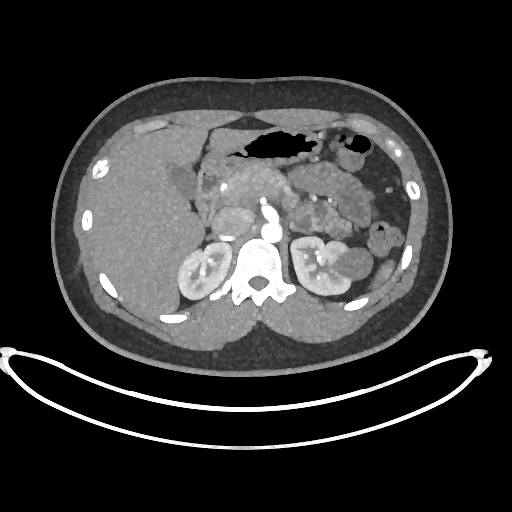Lesion: (333, 246, 375, 279)
